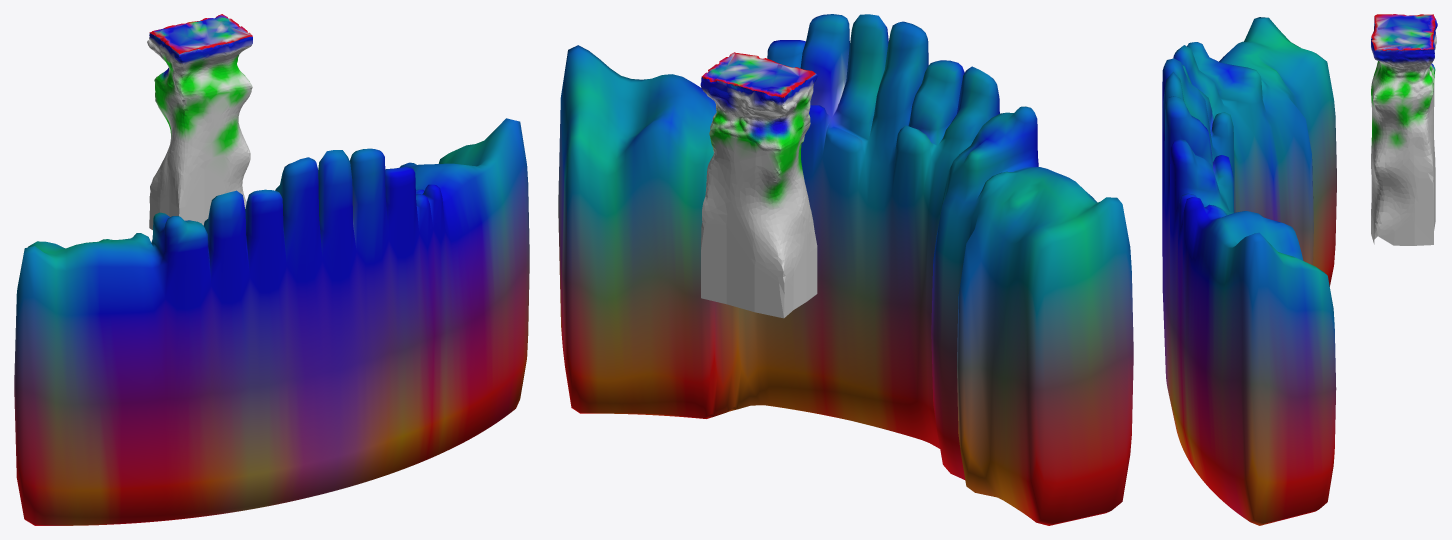
The model's file is small-room-01.fbx.
3 renders of one model, left to right at view 1: azimuth 30°, elevation 25°; view 2: azimuth 150°, elevation 25°; view 3: azimuth 270°, elevation 25°, orthographic. The views are drawn at different scales.
Visible parts, largest first — view 1: Background, Ground, Floor; view 2: Background, Ground, Floor; view 3: Background, Ground, Floor.
Part boxes in pixels (box(x1,y1,x2,y2)): Background: box(14, 118, 529, 525); Ground: box(147, 33, 252, 229); Floor: box(149, 14, 252, 54); Background: box(558, 14, 1133, 525); Ground: box(700, 73, 817, 318); Floor: box(701, 52, 815, 97); Background: box(1162, 17, 1336, 525); Ground: box(1371, 16, 1437, 245); Floor: box(1371, 14, 1435, 50).
Size of the model in its own units: 5442 by 3912 by 2552.
